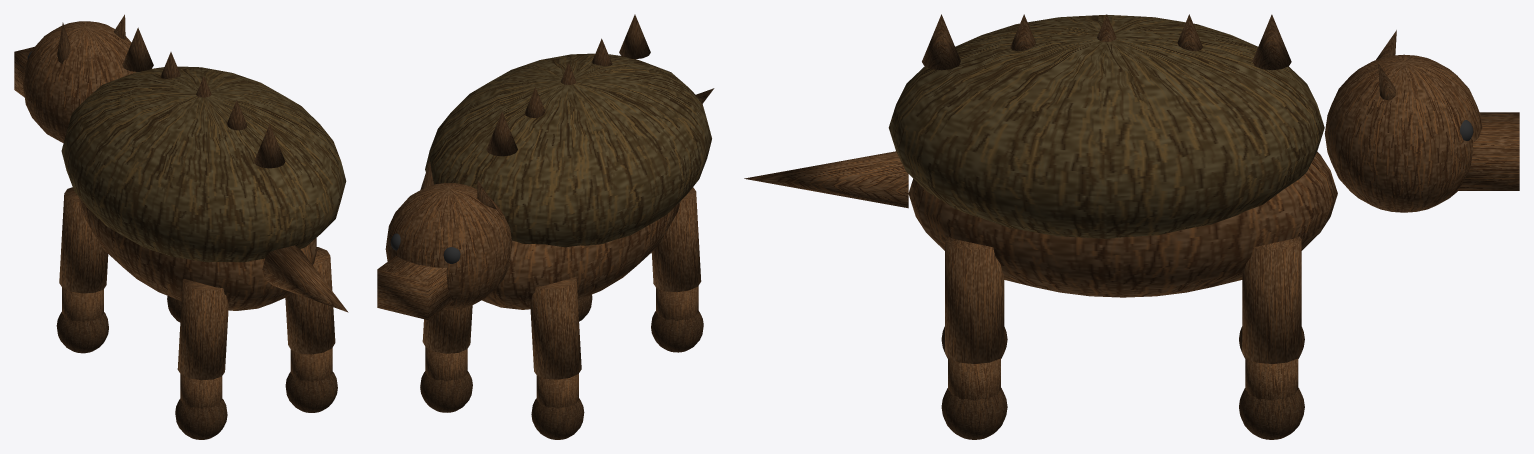
File: tarasque.glb
3 renders of one model, left to right at view 1: azimuth 30°, elevation 25°; view 2: azimuth 150°, elevation 25°; view 3: azimuth 270°, elevation 25°, orthographic. The views are drawn at different scales.
Visible parts, largest first — view 1: Shell, Head, Body, LegUpper.001, LegUpper, LegUpper.003, Tail, Paw, Paw.003, Paw.001, LegLower.001, LegLower (+6 smaller); view 2: Shell, Head, Body, LegUpper, DragonSnout, LegUpper.001, LegUpper.002, Paw.001, Paw.002, Paw, LegLower, LegLower.001 (+4 smaller); view 3: Shell, Body, Head, LegUpper.002, LegUpper.003, Tail, DragonSnout, Paw.002, Paw.003, LegLower.002, LegLower.003, BackSpike.004 (+1 smaller).
Boxes of the visible parts, bbox=[...] form: Shell: bbox=[61, 66, 346, 262]; Head: bbox=[22, 21, 136, 142]; Body: bbox=[78, 196, 316, 310]; LegUpper.001: bbox=[177, 278, 228, 380]; LegUpper: bbox=[59, 187, 108, 293]; LegUpper.003: bbox=[285, 247, 335, 354]; Tail: bbox=[262, 245, 348, 312]; Paw: bbox=[56, 312, 108, 353]; Paw.003: bbox=[285, 372, 337, 412]; Paw.001: bbox=[175, 399, 227, 439]; LegLower.001: bbox=[180, 374, 222, 408]; LegLower: bbox=[62, 287, 103, 321]; Shell: bbox=[425, 53, 711, 247]; Head: bbox=[385, 183, 512, 309]; Body: bbox=[482, 202, 680, 309]; LegUpper: bbox=[530, 277, 581, 379]; DragonSnout: bbox=[377, 255, 453, 319]; LegUpper.001: bbox=[651, 187, 701, 292]; LegUpper.002: bbox=[422, 305, 472, 353]; Paw.001: bbox=[651, 311, 703, 352]; Paw.002: bbox=[420, 371, 472, 412]; Paw: bbox=[531, 398, 584, 439]; LegLower: bbox=[536, 374, 578, 408]; LegLower.001: bbox=[656, 286, 698, 321]; Shell: bbox=[888, 14, 1324, 238]; Body: bbox=[908, 151, 1337, 297]; Head: bbox=[1324, 54, 1482, 212]; LegUpper.002: bbox=[1242, 236, 1301, 363]; LegUpper.003: bbox=[945, 236, 1004, 363]; Tail: bbox=[744, 151, 908, 208]; DragonSnout: bbox=[1456, 112, 1519, 190]; Paw.002: bbox=[1239, 388, 1304, 439]; Paw.003: bbox=[941, 388, 1007, 439]; LegLower.002: bbox=[1245, 358, 1298, 400]; LegLower.003: bbox=[948, 358, 1000, 400]; BackSpike.004: bbox=[1252, 14, 1291, 70].
Size of the model in its own units: 0.7615 by 1 by 1.81.
Materials: 4 (3 with a texture image).
